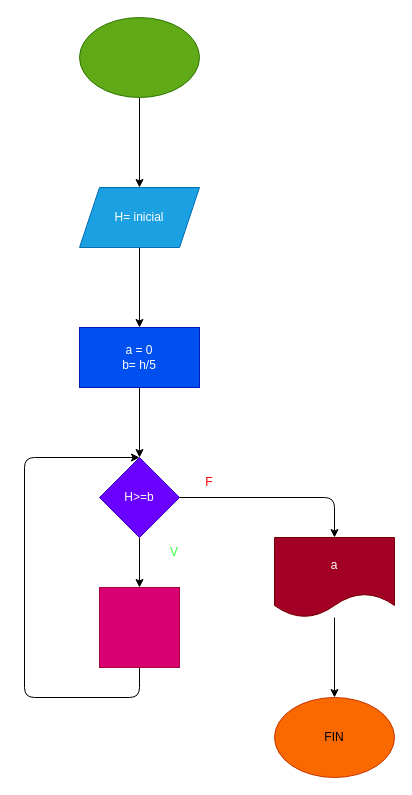
This 412x795 diagram has some shape labels left out. The centre of each missing label's shape, as x and y in pixels:
H=H*0.1+H a=a+1: point 139,627
INICIO: point 139,57
